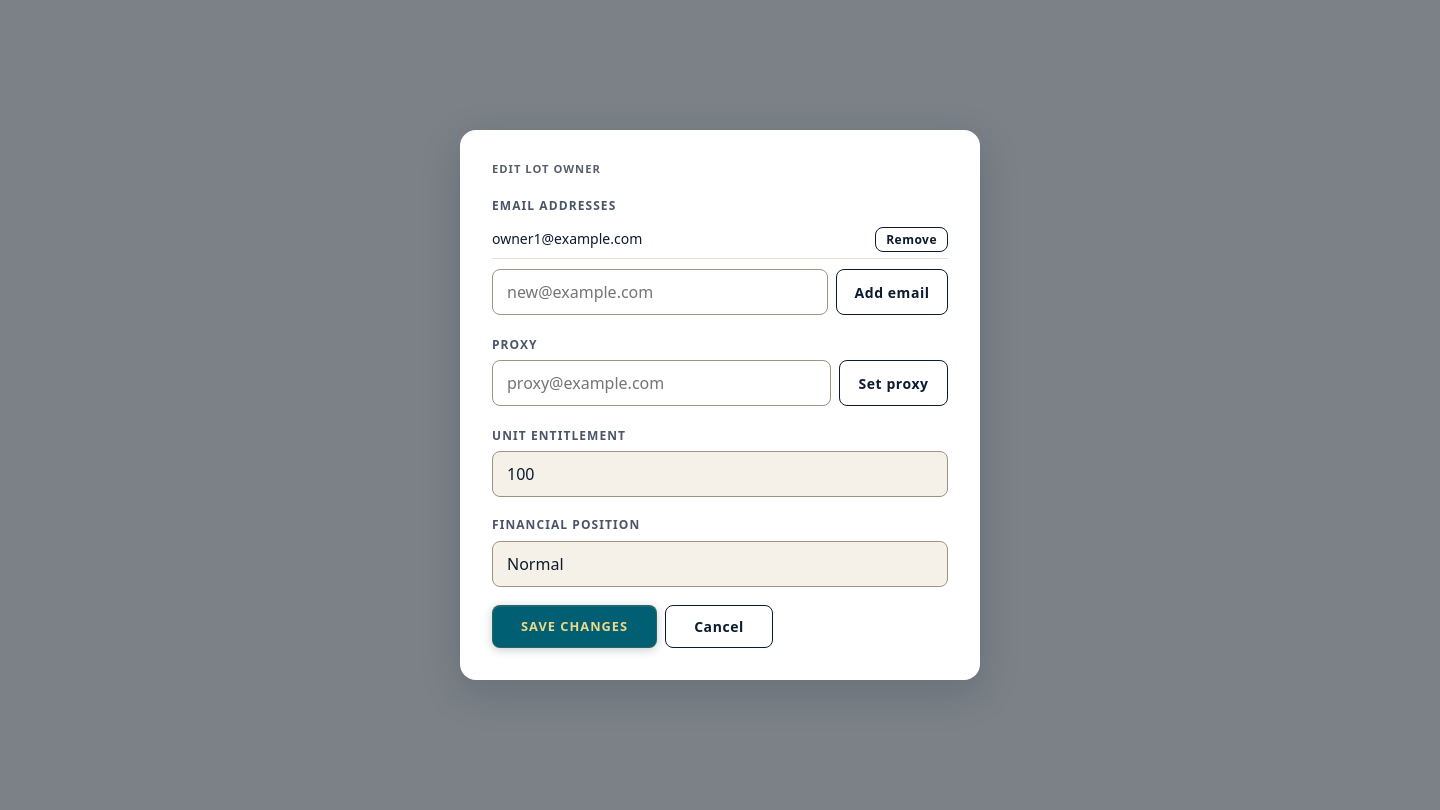
Scenario: LotOwnerForm - Edit modal › shows no changes error when values unchanged
Click the button "Save Changes" at (575, 626), box [492,605,657,648]
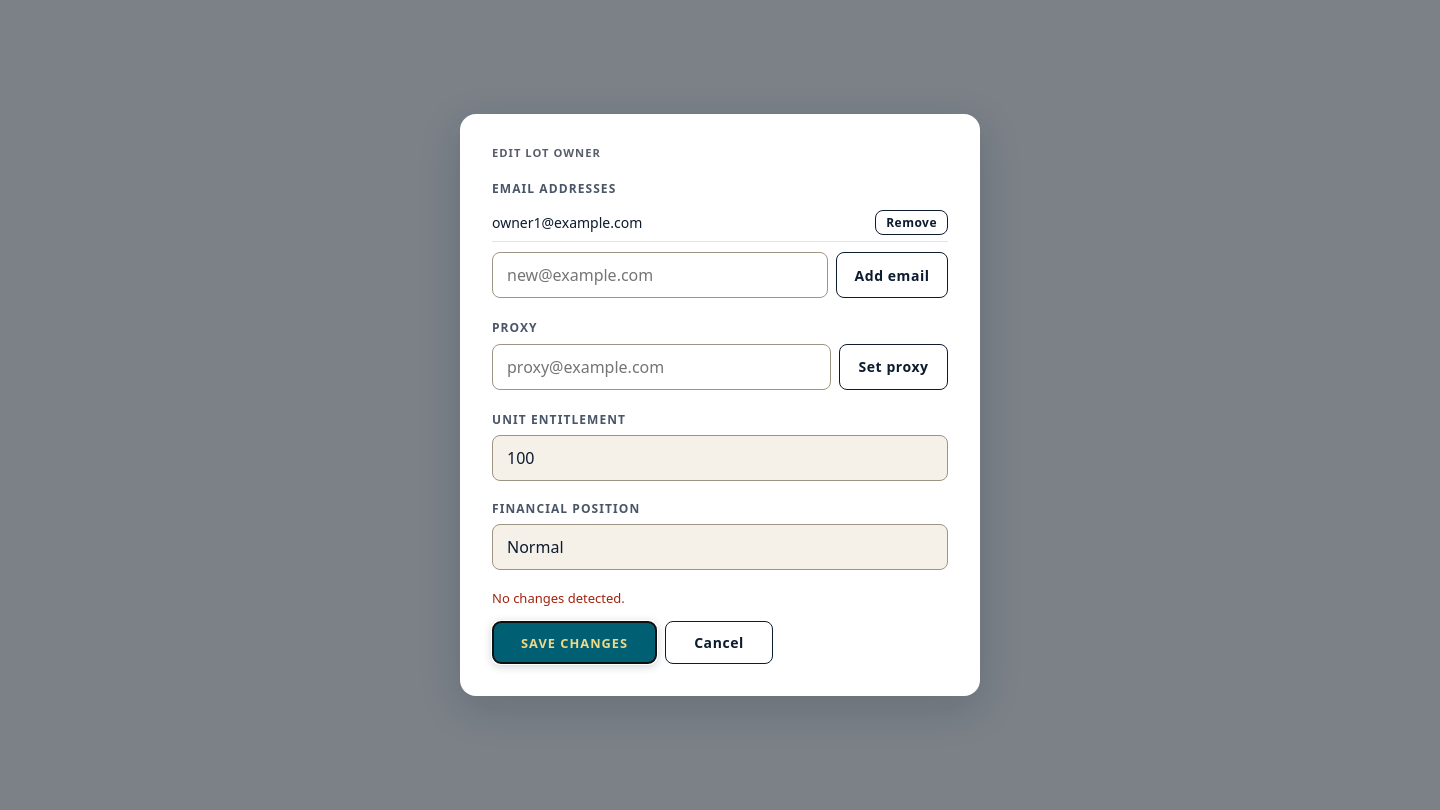
Now the text "No changes detected." is shown, box [492,589,625,607]
